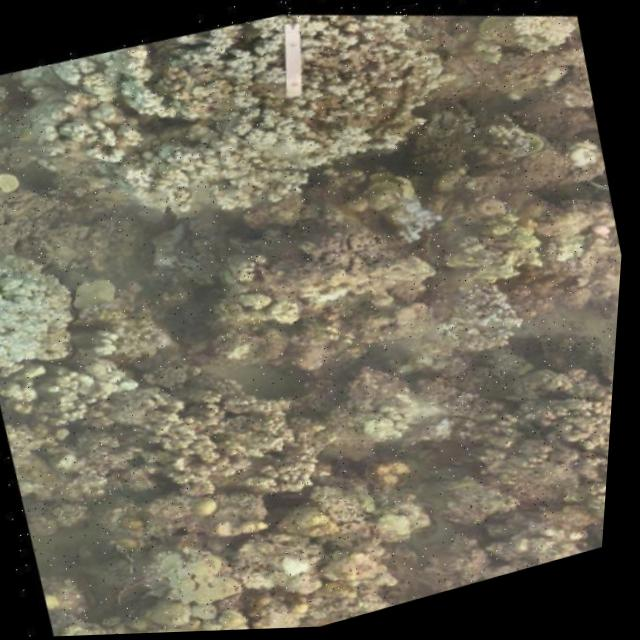Bleached Coral: (0, 231, 109, 390), (497, 0, 586, 69)
